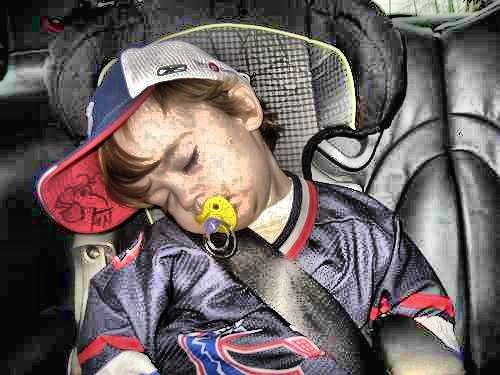seatbelt: (190, 211, 364, 352)
